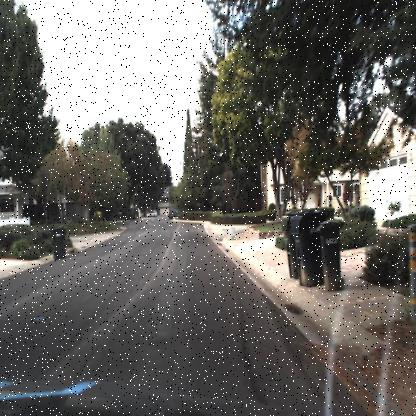car: (168, 202, 182, 220), (149, 210, 155, 218)
